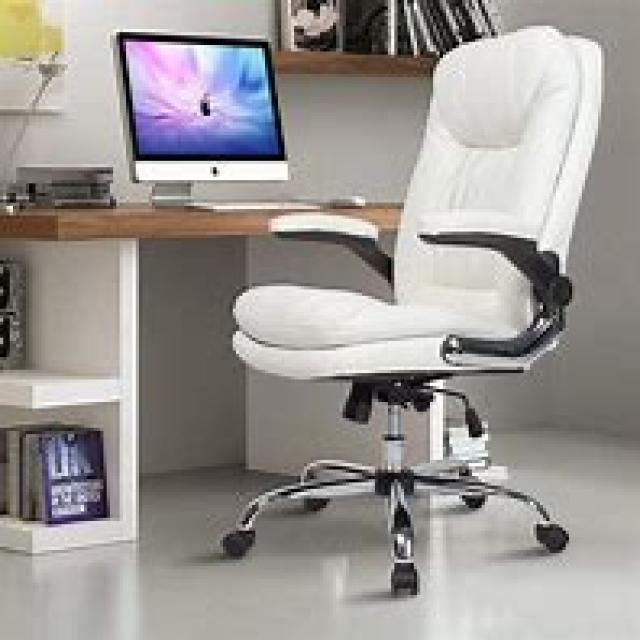chair: (220, 22, 604, 595)
